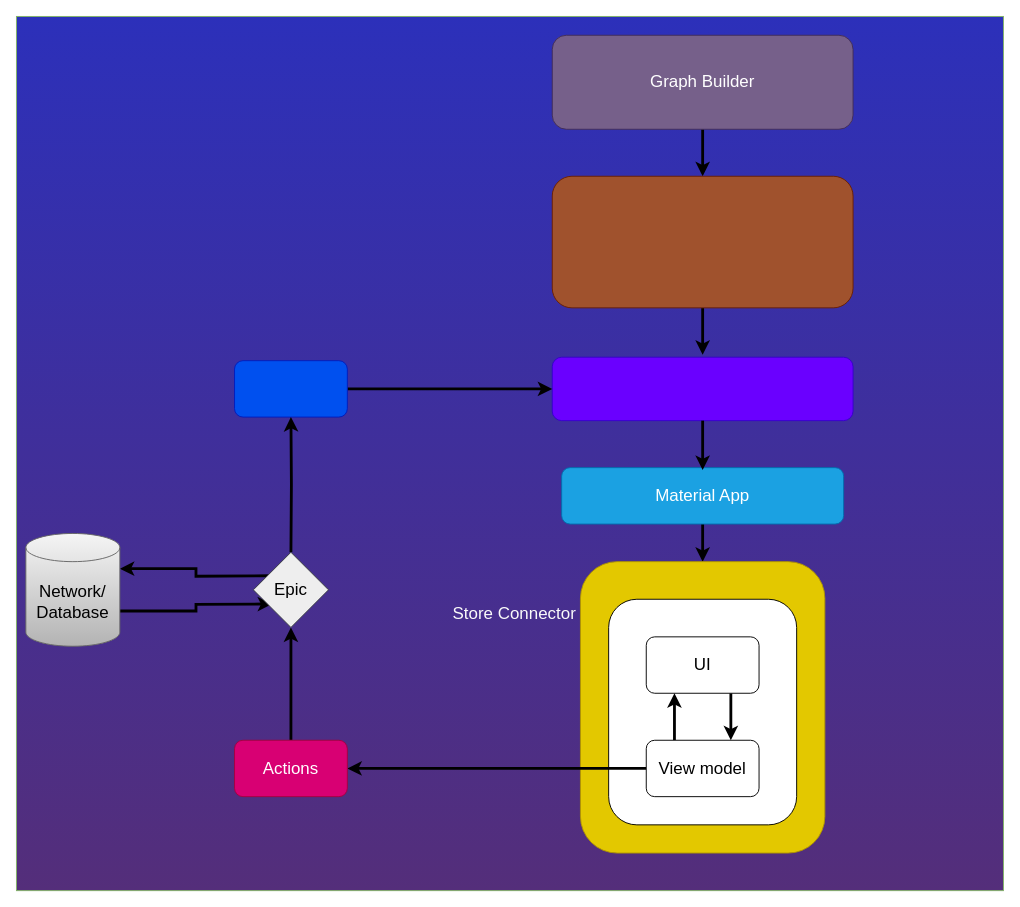
This 1020x907 diagram has some shape labels left out. Here are the shapes that lost their labels. From the top down, the centre of each, then its label:
At point 702,241: "Injector Widget".
At point 290,388: "Reducer".
At point 702,388: "Store Provider / AppState".
